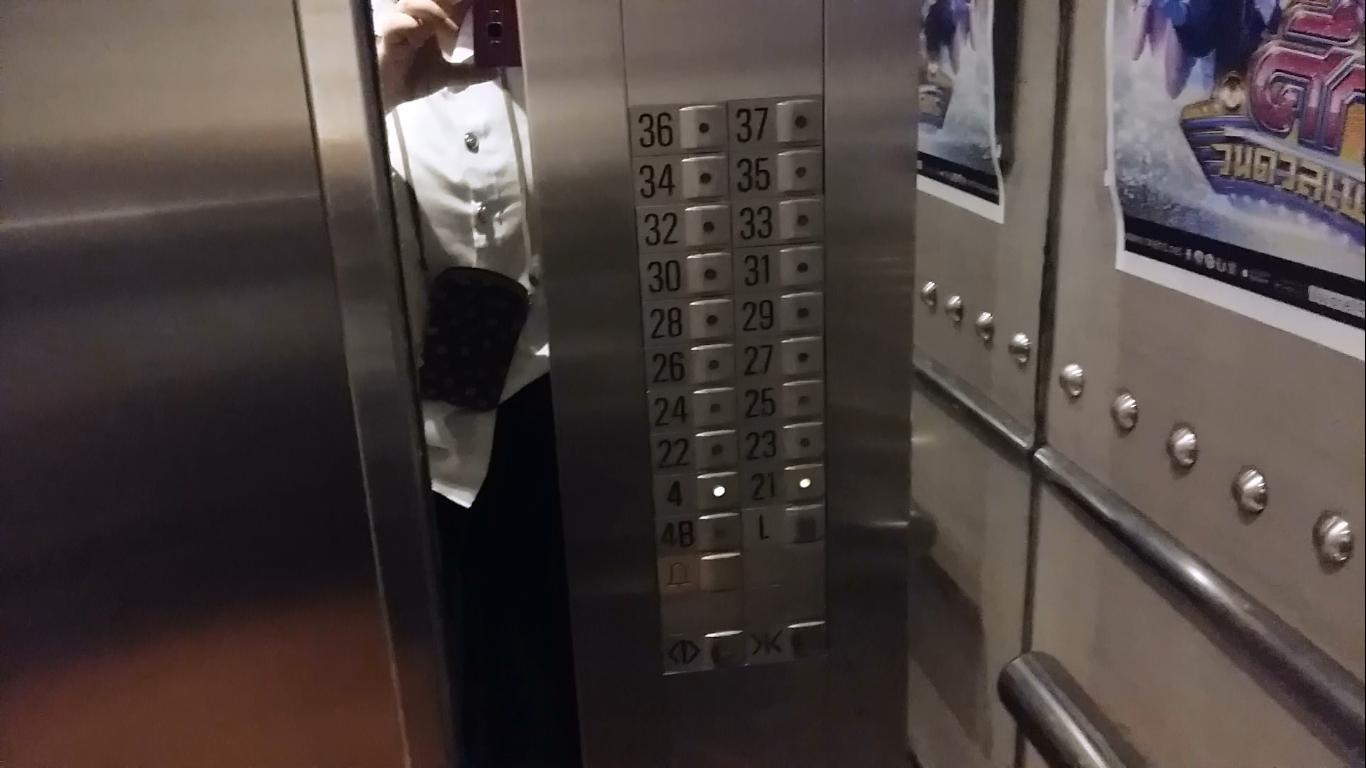21: (742, 465, 828, 507)
22: (648, 431, 743, 474)
23: (739, 420, 831, 464)
24: (646, 385, 740, 436)
25: (735, 377, 826, 424)
26: (645, 341, 737, 390)
27: (734, 333, 826, 380)
28: (639, 296, 734, 347)
29: (734, 287, 823, 338)
30: (636, 244, 733, 302)
31: (732, 241, 826, 293)
32: (635, 202, 732, 250)
33: (731, 194, 826, 246)
34: (631, 150, 731, 205)
35: (728, 145, 826, 200)
36: (628, 104, 727, 155)
37: (726, 95, 824, 150)
4: (648, 469, 738, 513)
4B: (654, 511, 740, 555)
L: (741, 504, 828, 545)
alarm: (659, 551, 742, 595)
close: (747, 620, 829, 664)
open: (663, 632, 748, 672)
